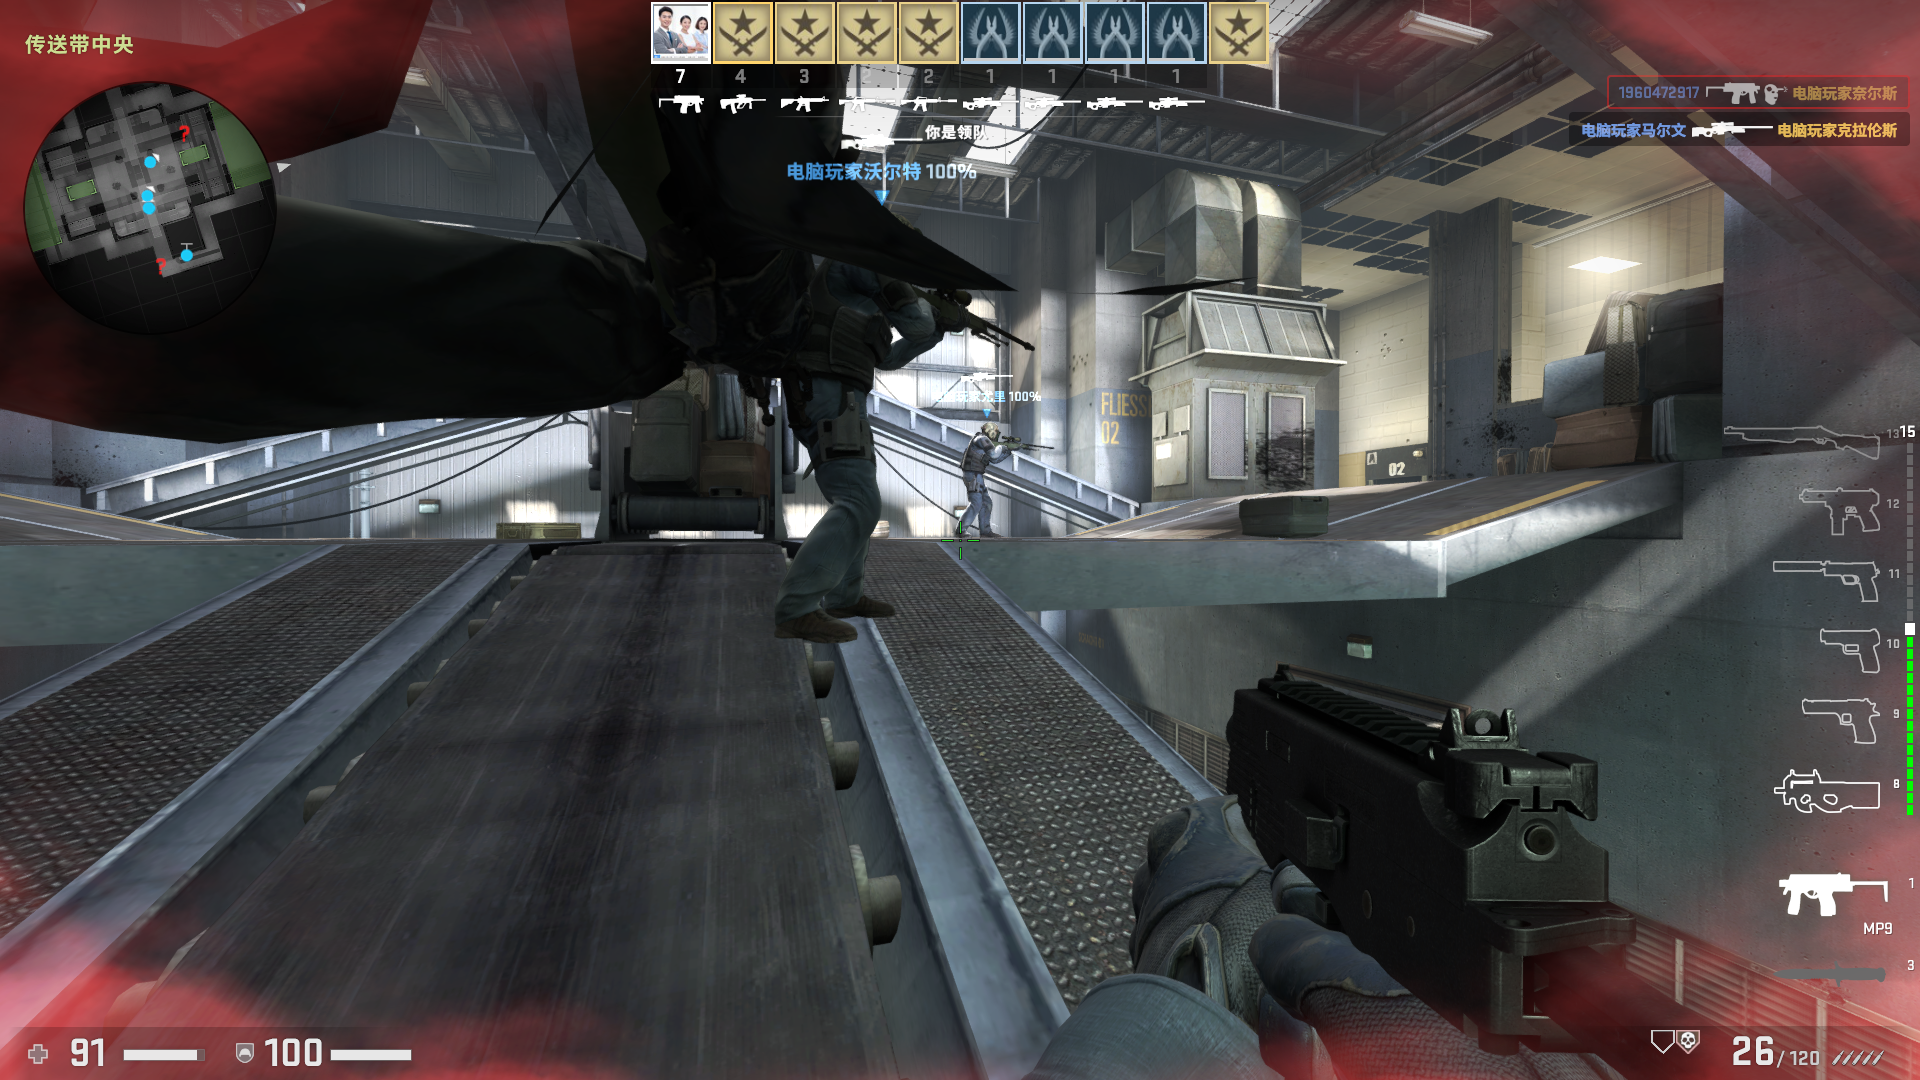person: (765, 208, 902, 647), (955, 421, 1013, 538)
